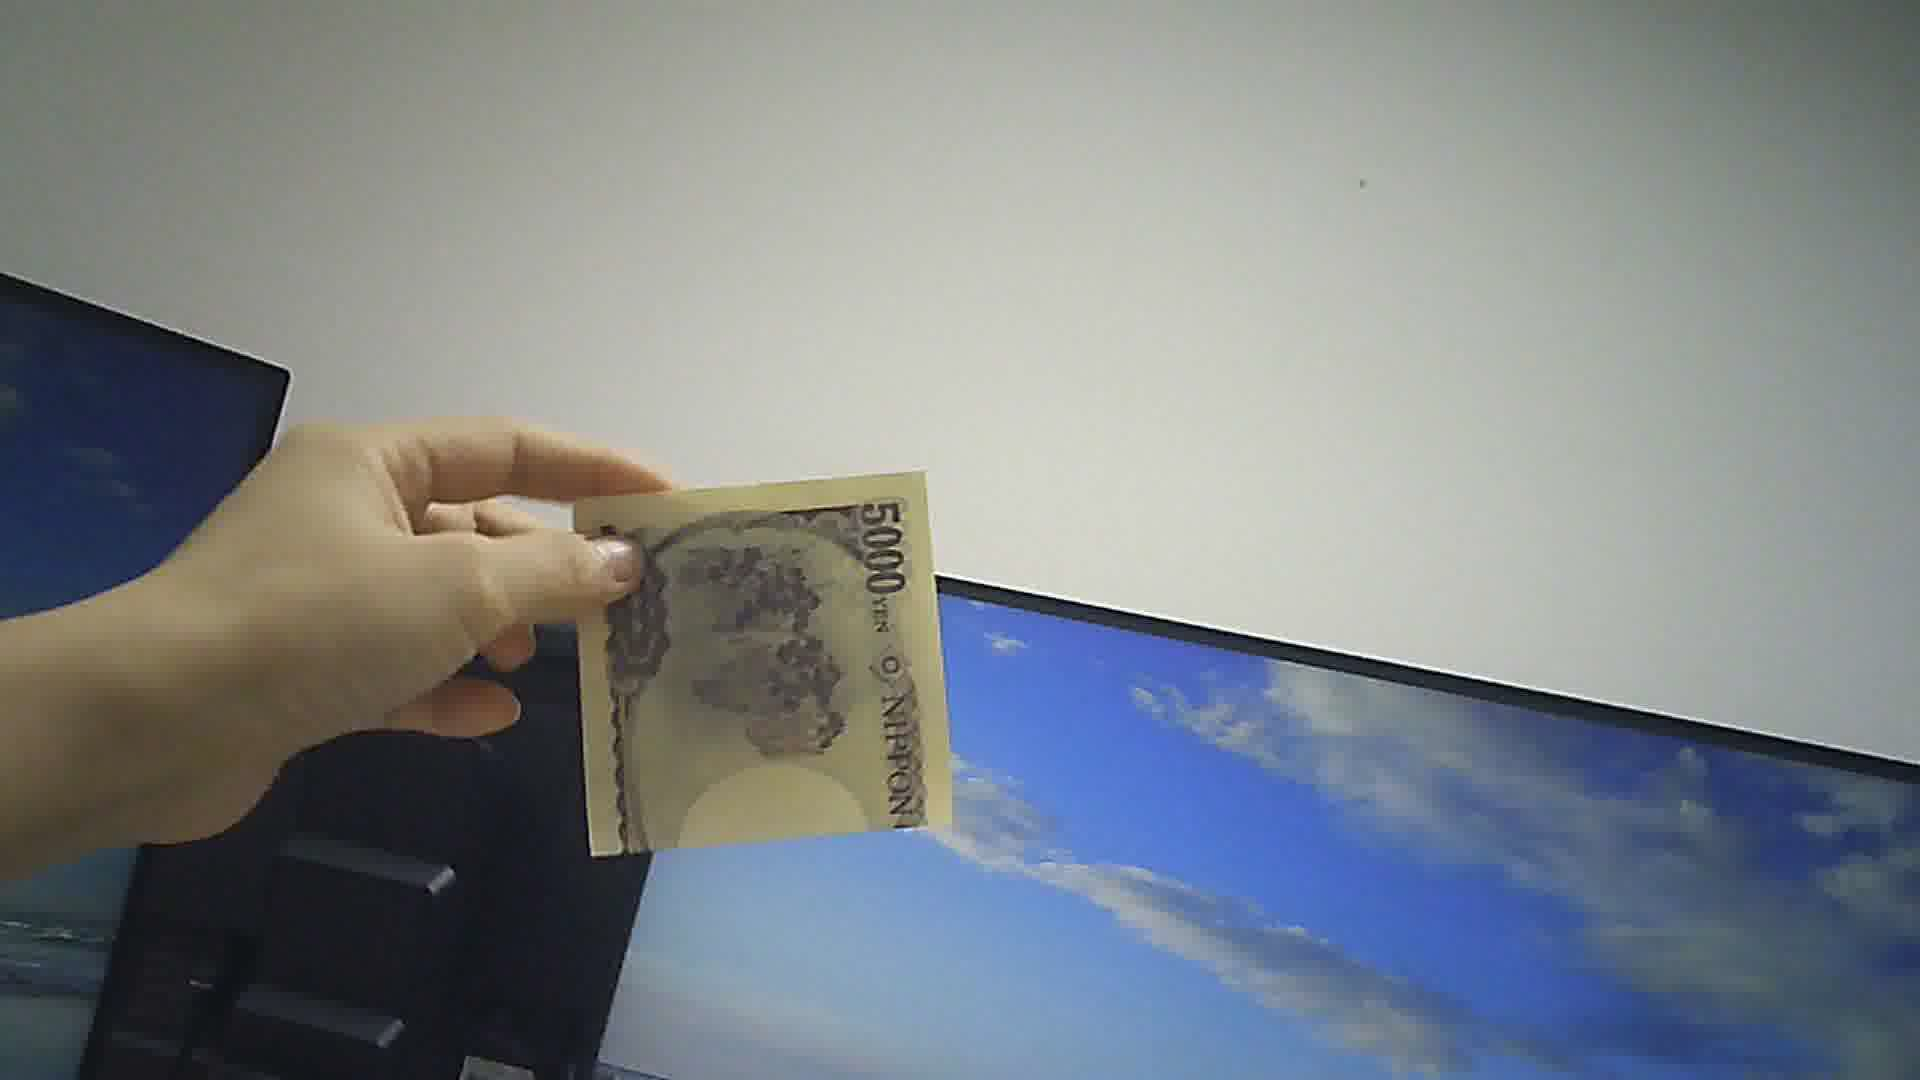5,000 Yen: (547, 455, 990, 876)
